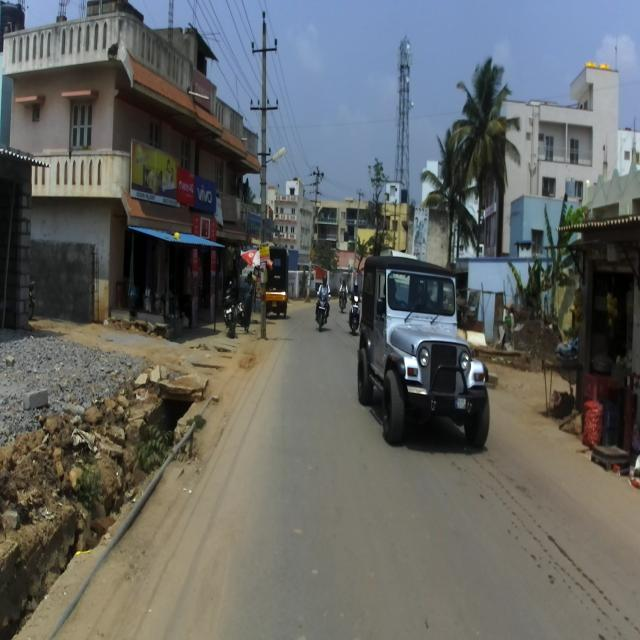car ahead at: (362, 252, 496, 454)
electric pole ahead at: (245, 5, 289, 338)
